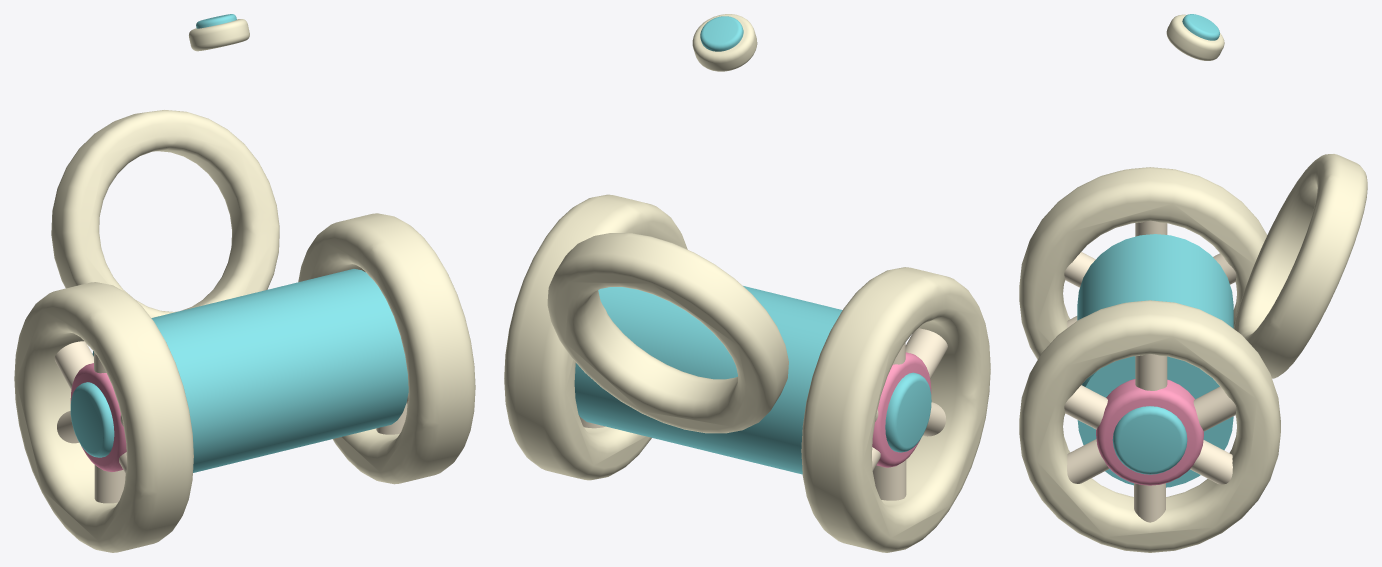
The model's file is cannon_tekerlek.fbx.
3 views of the same model, side by side, from view 1: azimuth 30°, elevation 25°; view 2: azimuth 150°, elevation 25°; view 3: azimuth 270°, elevation 25° (orthographic). The views are drawn at different scales.
Visible parts, largest first — view 1: Cylinder.009; view 2: Cylinder.009; view 3: Cylinder.009.
Boxes of the visible parts, x1,y1,x2,y2 form: Cylinder.009: [14, 14, 475, 552]; Cylinder.009: [504, 14, 990, 552]; Cylinder.009: [1019, 14, 1367, 552].
Bounding box in the file's own units: 295 × 388 × 266.
